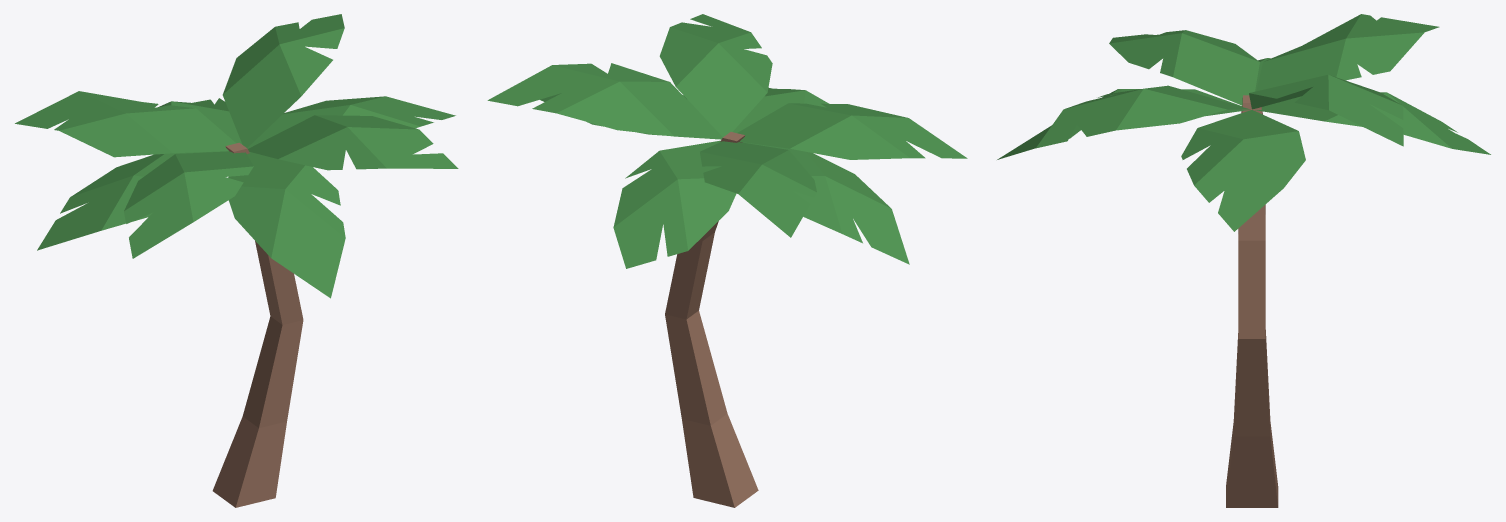
The model's file is tree-type-02.obj.
The picture shows the model from 3 angles, left to right: view 1: azimuth 30°, elevation 25°; view 2: azimuth 150°, elevation 25°; view 3: azimuth 270°, elevation 25°; orthographic projection. The views are drawn at different scales.
Parts seen in each view (by area): view 1: tree-type-02; view 2: tree-type-02; view 3: tree-type-02.
Part boxes in pixels (left/top/right/bottom): tree-type-02: left=15, top=14, right=458, bottom=507; tree-type-02: left=487, top=14, right=967, bottom=507; tree-type-02: left=997, top=14, right=1490, bottom=507.
Bounding box in the file's own units: 5.49 × 5.4 × 5.27.
